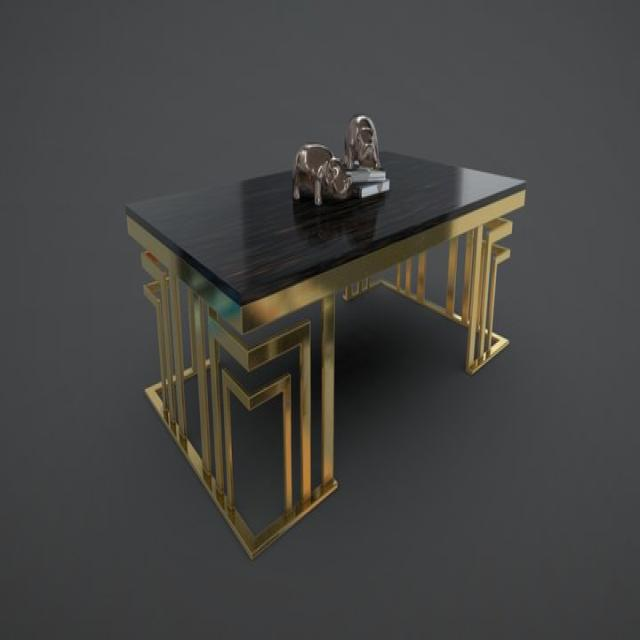table: (124, 137, 527, 561)
